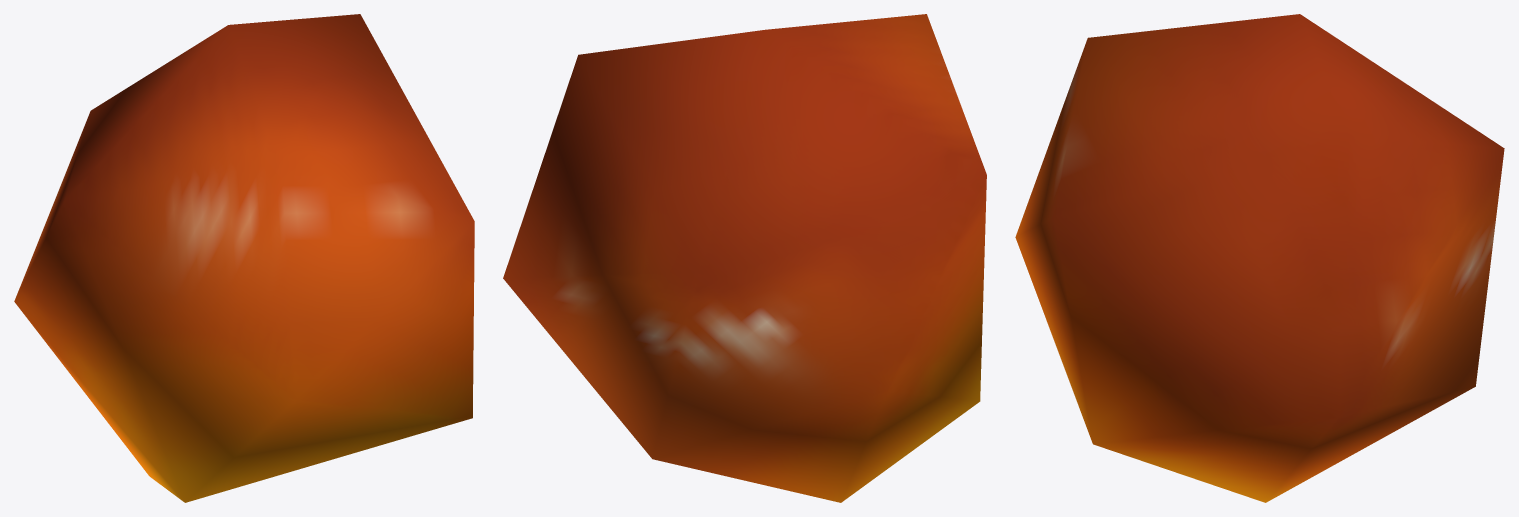
Rendered from SushisEggSingle.fbx.
3 views of the same model, side by side, from view 1: azimuth 30°, elevation 25°; view 2: azimuth 150°, elevation 25°; view 3: azimuth 270°, elevation 25° (orthographic). The views are drawn at different scales.
Parts seen in each view (by area): view 1: SushisEggSingle; view 2: SushisEggSingle; view 3: SushisEggSingle.
Boxes of the visible parts, x1,y1,x2,y2 form: SushisEggSingle: [14, 14, 474, 502]; SushisEggSingle: [503, 14, 986, 502]; SushisEggSingle: [1015, 14, 1504, 502].
Size of the model in its own units: 4.18 by 4.19 by 4.12.
